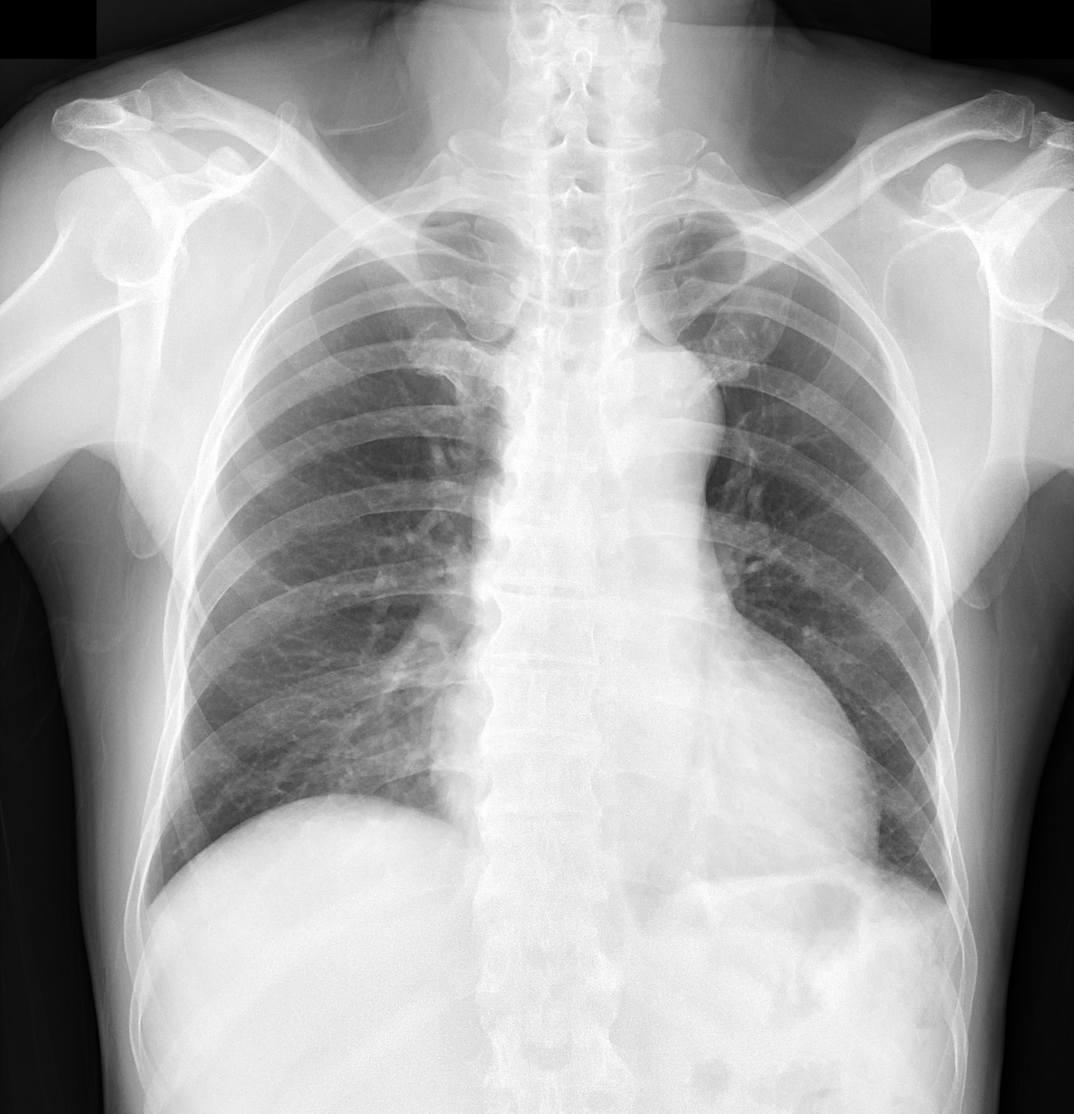Pleural thickening: (926, 874, 959, 932)
